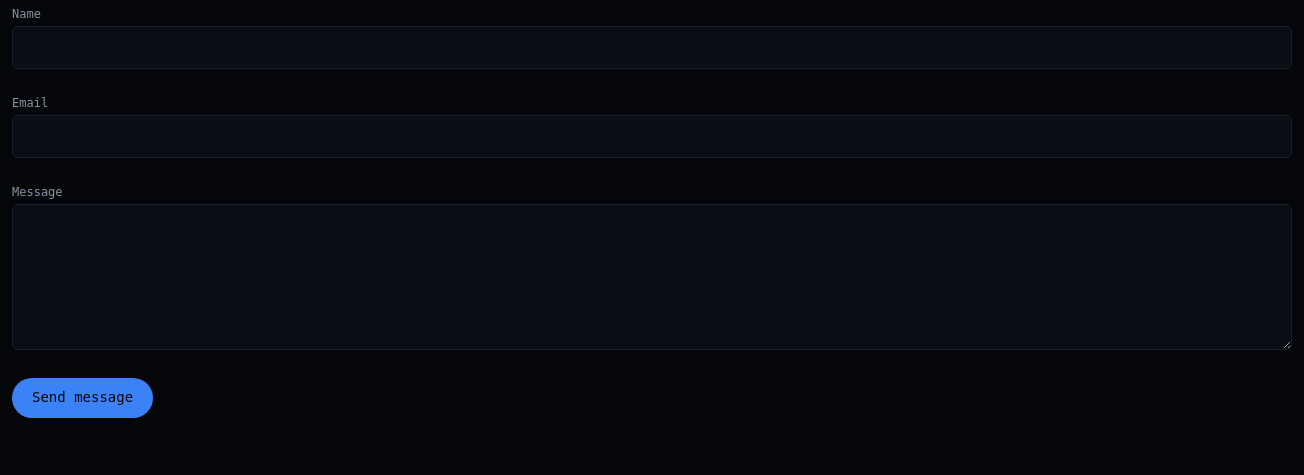
Test: ContactForm › sends the message with the Turnstile token and confirms
Type "Rina" into the field labelled "Name" at (652, 47), box [12,26,1292,69]
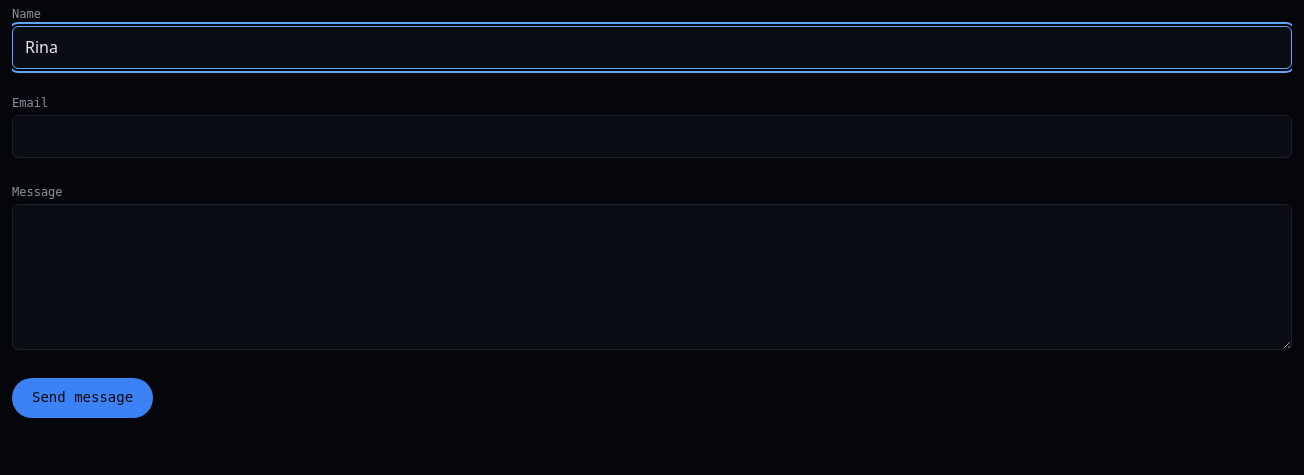
Type "rina@example.com" into the field labelled "Email" at (652, 137), box [12,115,1292,158]
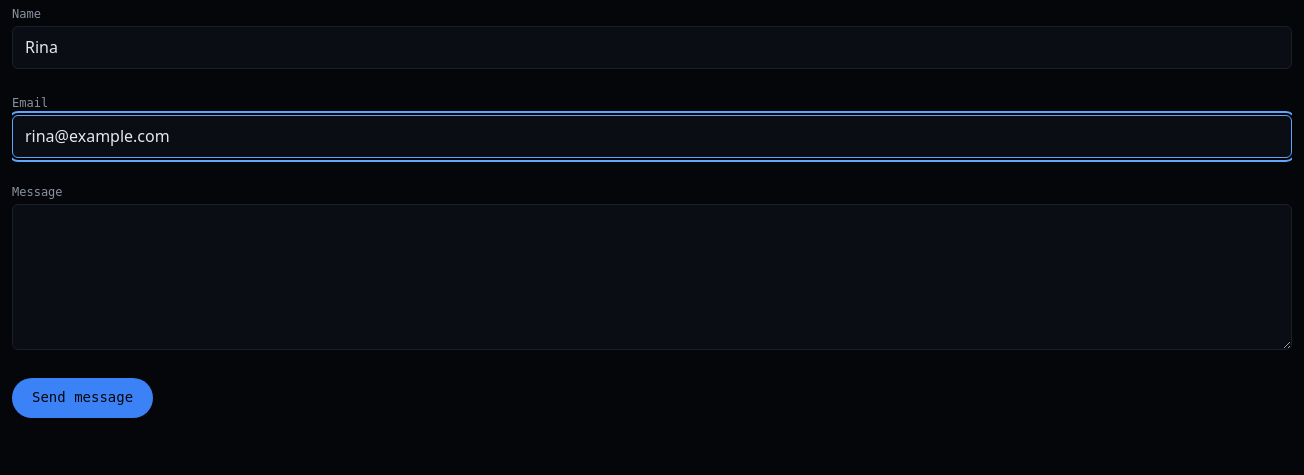
Type "Halo, mau ngobrol soal proyek." into the text box labelled "Message" at (652, 277), box [12,204,1292,350]
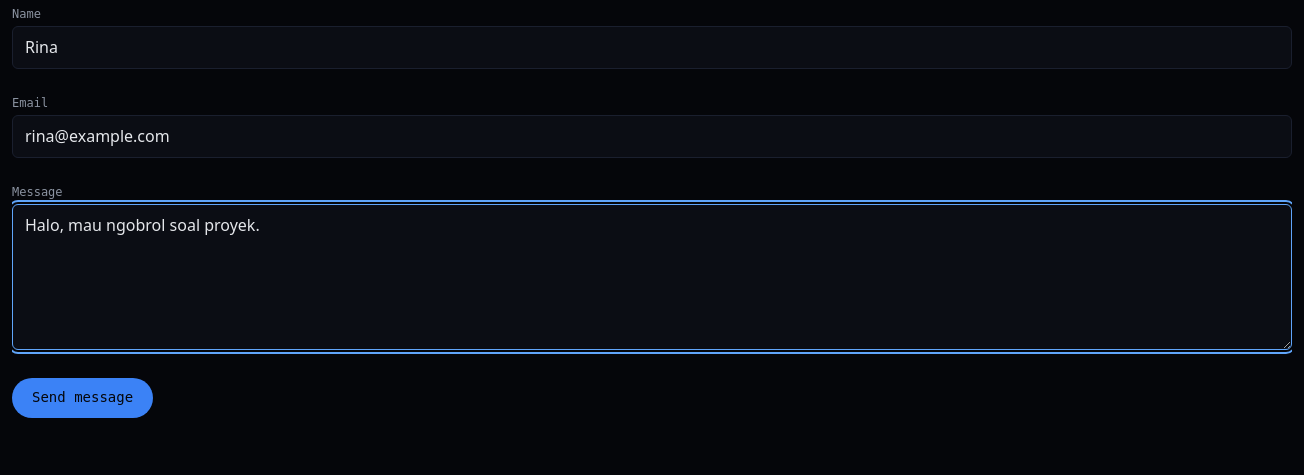
Click the button "Send message" at (83, 398), box [12,378,153,418]
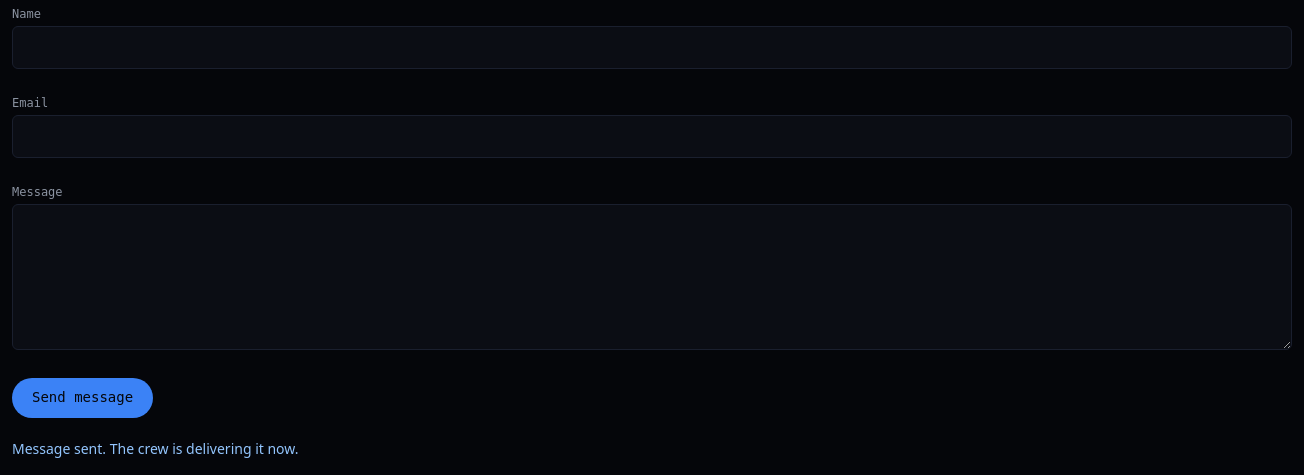
Now the text "Message sent. The crew is delivering it now." is shown, box [12,438,298,458]
Now the field labelled "Name" is empty, box [12,26,1292,69]
